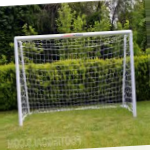goals: (12, 26, 139, 128)
